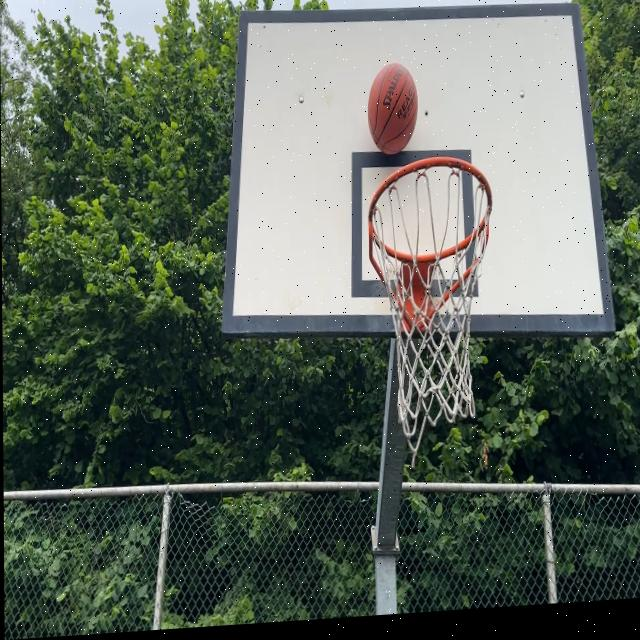rebound_hit: (367, 61, 419, 156)
